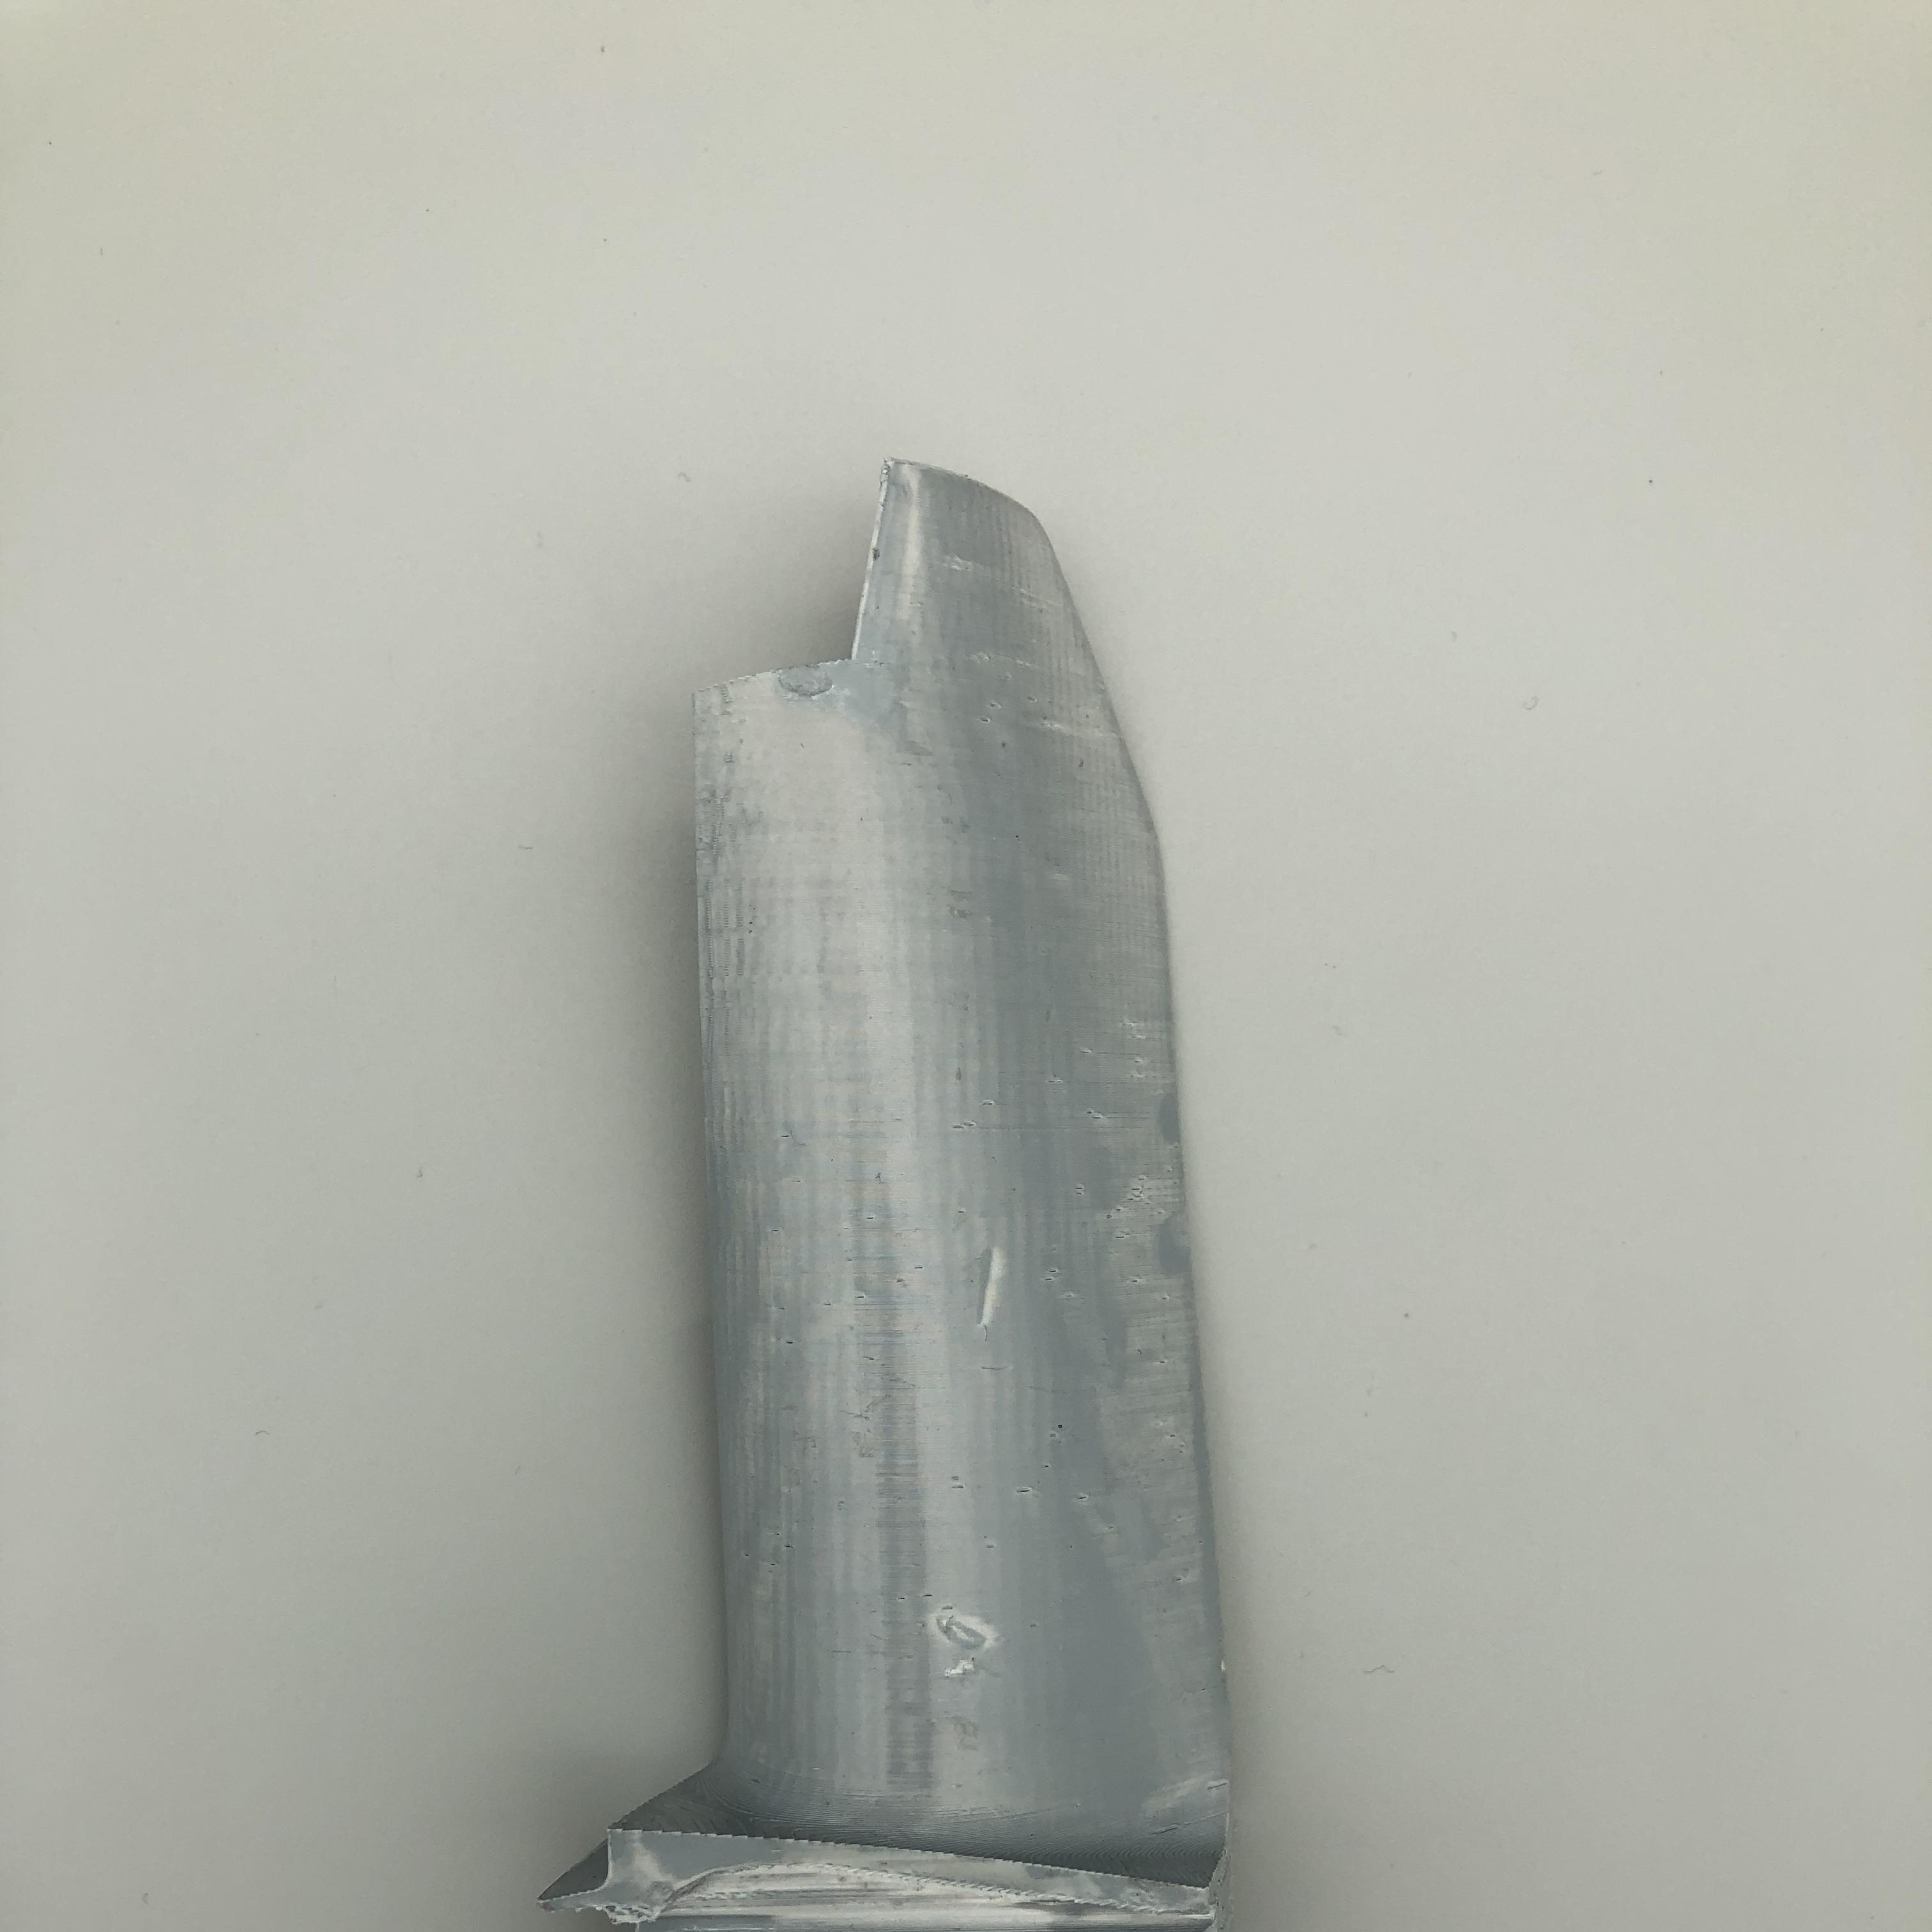fracture: (685, 451, 929, 727)
